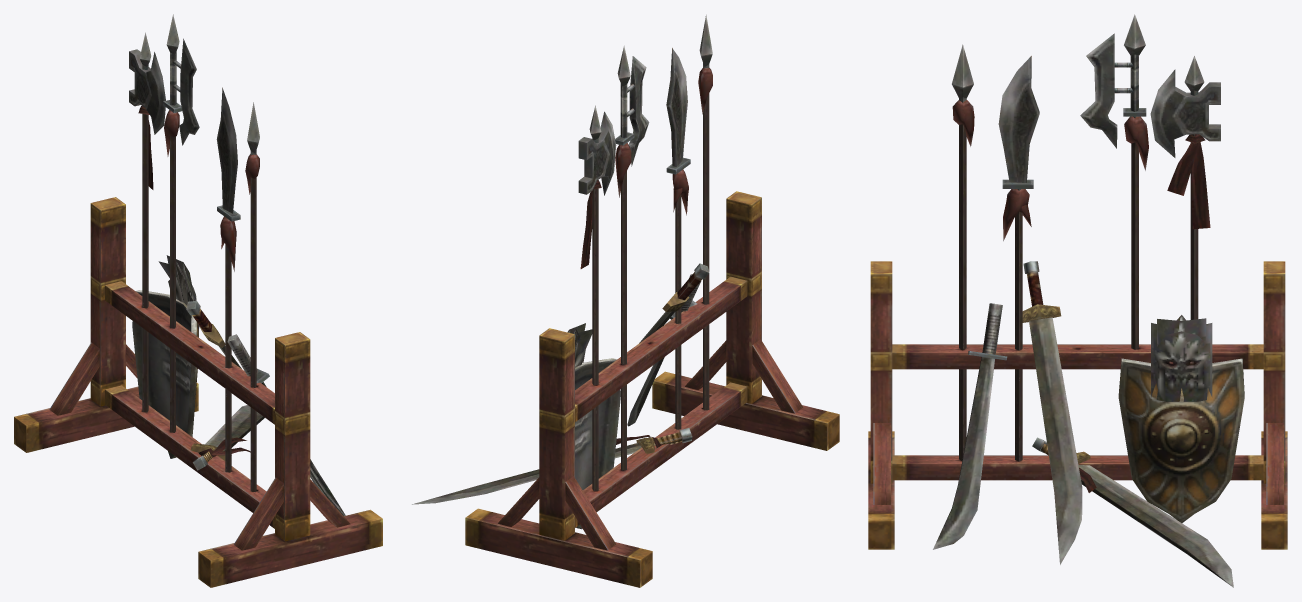
File: cj_luoyang_leitai04_54_05_2373out.fbx
The picture shows the model from 3 angles, left to right: view 1: azimuth 30°, elevation 25°; view 2: azimuth 150°, elevation 25°; view 3: azimuth 270°, elevation 25°; orthographic projection. The views are drawn at different scales.
Visible parts, largest first — view 1: cj_luoyang_leitai04; view 2: cj_luoyang_leitai04; view 3: cj_luoyang_leitai04.
Boxes of the visible parts, bbox=[...] form: cj_luoyang_leitai04: bbox=[14, 14, 382, 587]; cj_luoyang_leitai04: bbox=[412, 14, 839, 587]; cj_luoyang_leitai04: bbox=[868, 14, 1287, 587].
Bounding box in the file's own units: 1.53 × 2.72 × 2.08.
